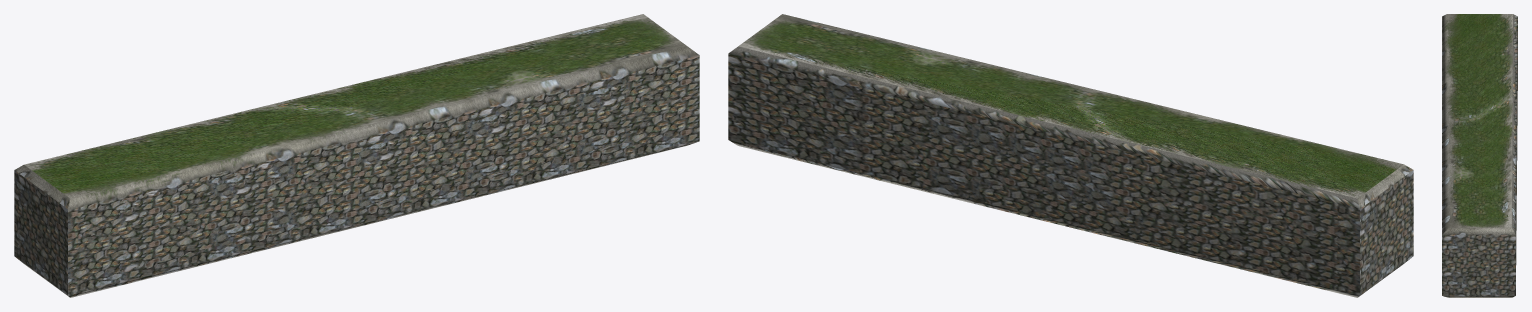
Rendered from Temple_Wall_Cap_Long_02.fbx.
3 renders of one model, left to right at view 1: azimuth 30°, elevation 25°; view 2: azimuth 150°, elevation 25°; view 3: azimuth 270°, elevation 25°, orthographic. The views are drawn at different scales.
Visible parts, largest first — view 1: polySurface4; view 2: polySurface4; view 3: polySurface4.
Boxes of the visible parts, <box> form: polySurface4: <box>14,14,699,297</box>; polySurface4: <box>728,14,1413,297</box>; polySurface4: <box>1442,14,1517,297</box>.
Bounding box in the file's own units: 20.4 × 3.07 × 3.
